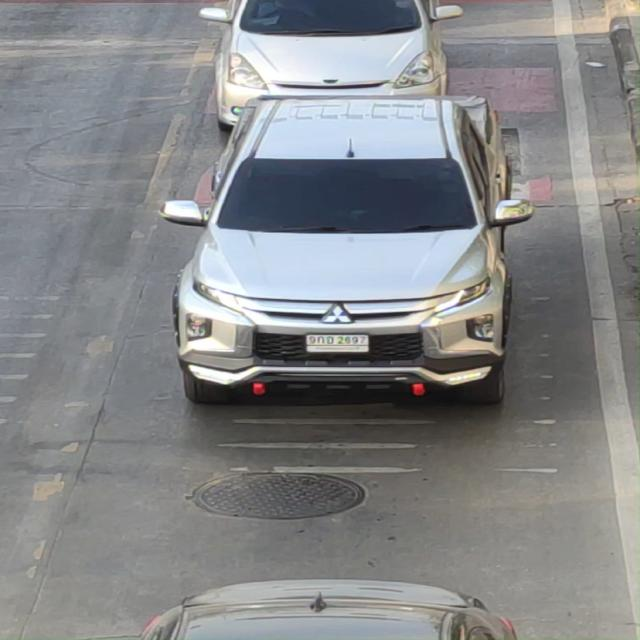car: (147, 80, 522, 432)
